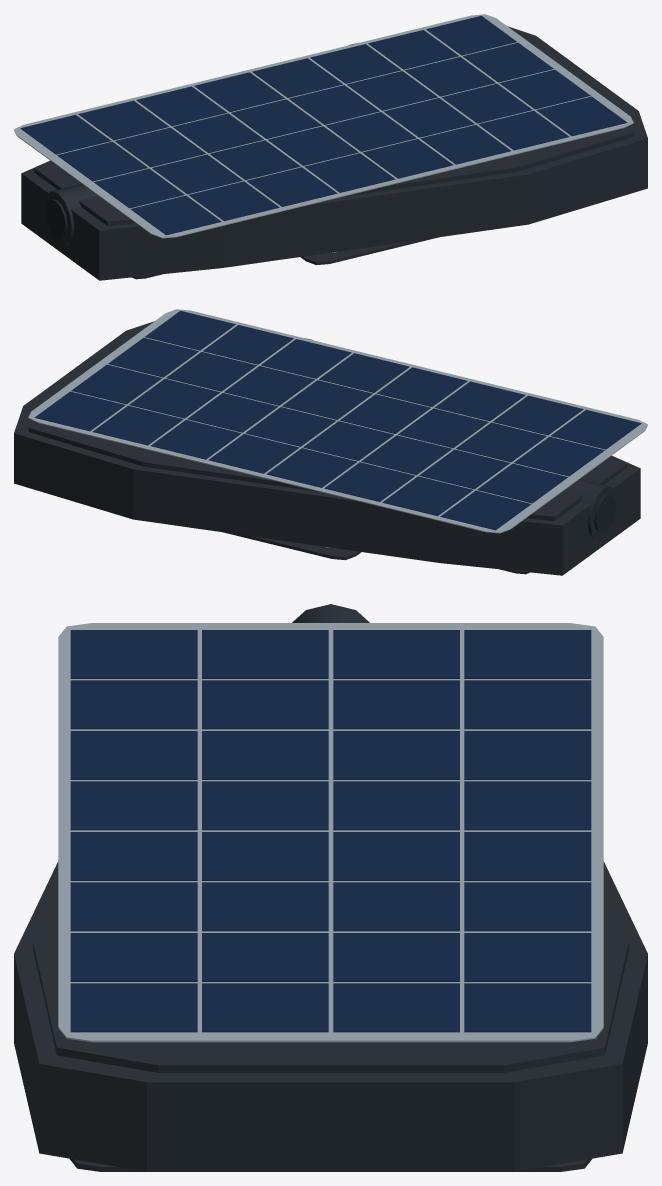
Rendered from source.glb.
The picture shows the model from 3 angles, top to bottom: view 1: azimuth 30°, elevation 25°; view 2: azimuth 150°, elevation 25°; view 3: azimuth 270°, elevation 25°; orthographic projection. The views are drawn at different scales.
Visible parts, largest first — view 1: 光伏片示意, 粉末涂层铝壳, 机加工金属, 密封及绝缘件; view 2: 光伏片示意, 粉末涂层铝壳, 机加工金属, 密封及绝缘件; view 3: 光伏片示意, 粉末涂层铝壳, 机加工金属.
Part boxes in pixels (box(x1,y1,x2,y2)): 光伏片示意: box(20, 15, 627, 235); 粉末涂层铝壳: box(21, 26, 647, 280); 机加工金属: box(14, 14, 633, 238); 密封及绝缘件: box(45, 199, 157, 278); 光伏片示意: box(34, 310, 641, 530); 粉末涂层铝壳: box(14, 321, 640, 575); 机加工金属: box(28, 309, 647, 533); 密封及绝缘件: box(504, 494, 616, 573); 光伏片示意: box(70, 630, 591, 1032); 粉末涂层铝壳: box(14, 604, 647, 1171); 机加工金属: box(58, 623, 603, 1042).
Bounding box in the file's own units: 0.3975 × 0.0519 × 0.23.
